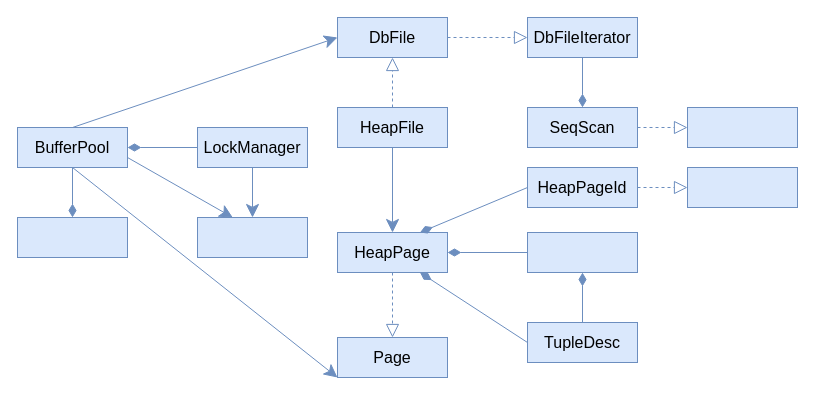
Some shapes in this 815 by 408 pixel diagram are drawn without their labels. Here are the shapes that lost their labels. From the top down, the centre of each, then its label:
At point 742,127: "OpIterator".
At point 742,187: "PageId".
At point 72,237: "Database".
At point 252,237: "TransactionId".
At point 582,252: "Tuple".
